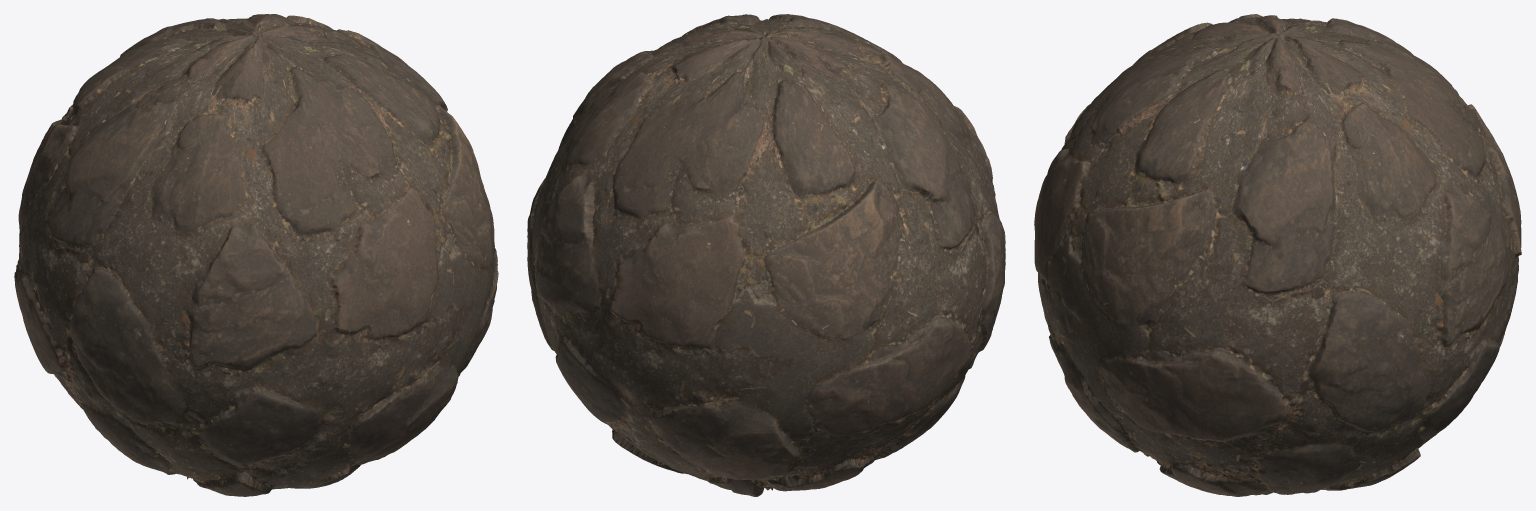
Rendered from concrete_rock_path_4k.gltf.
The picture shows the model from 3 angles, left to right: view 1: azimuth 30°, elevation 25°; view 2: azimuth 150°, elevation 25°; view 3: azimuth 270°, elevation 25°; orthographic projection. The views are drawn at different scales.
Parts seen in each view (by area): view 1: sphere_gltf; view 2: sphere_gltf; view 3: sphere_gltf.
Boxes of the visible parts, x1=… form: sphere_gltf: x1=14, y1=14, x2=498, y2=496; sphere_gltf: x1=527, y1=14, x2=1005, y2=496; sphere_gltf: x1=1034, y1=14, x2=1521, y2=496.
Bounding box in the file's own units: 2.01 × 2.03 × 2.02.
Materials: 1 (1 with a texture image).
